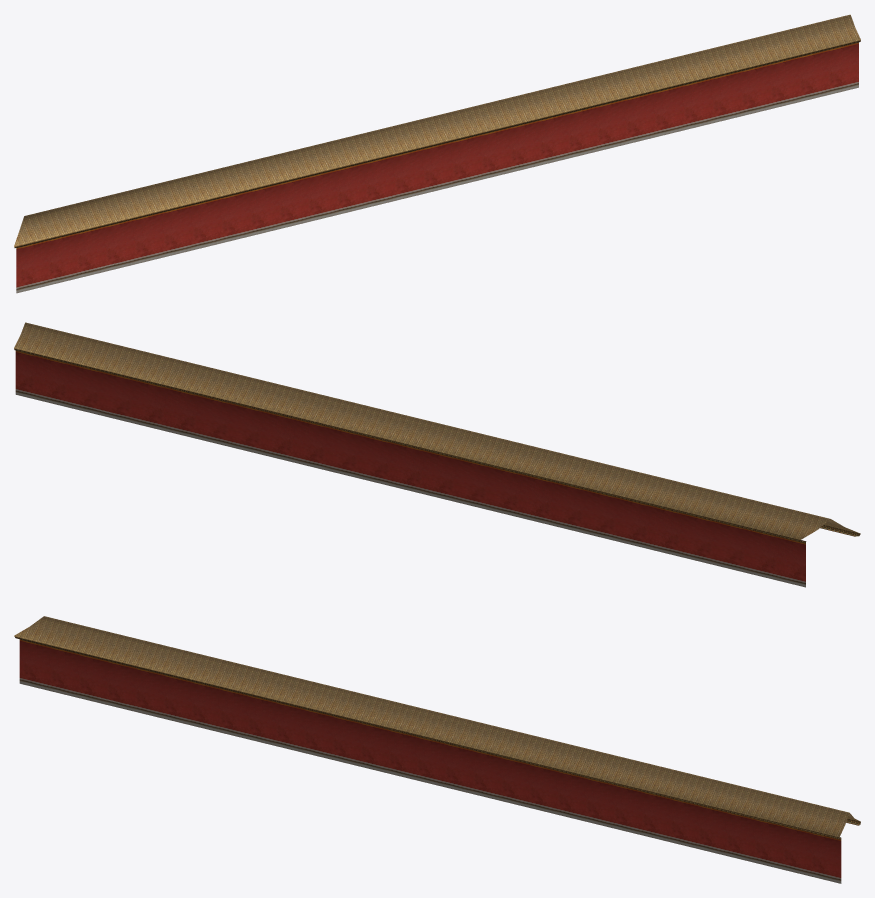
File: cj_pal_dam_left02.glb
The picture shows the model from 3 angles, top to bottom: view 1: azimuth 30°, elevation 25°; view 2: azimuth 150°, elevation 25°; view 3: azimuth 330°, elevation 25°; orthographic projection. The views are drawn at different scales.
Visible parts, largest first — view 1: CJ_pal_dam_left02_wall, CJ_pal_dam_left02_roof; view 2: CJ_pal_dam_left02_wall, CJ_pal_dam_left02_roof; view 3: CJ_pal_dam_left02_wall, CJ_pal_dam_left02_roof.
Part boxes in pixels (x1,y1,x2,y2): CJ_pal_dam_left02_wall: [16, 42, 858, 293]; CJ_pal_dam_left02_roof: [14, 14, 860, 247]; CJ_pal_dam_left02_wall: [15, 350, 805, 587]; CJ_pal_dam_left02_roof: [14, 322, 860, 542]; CJ_pal_dam_left02_wall: [19, 639, 841, 883]; CJ_pal_dam_left02_roof: [14, 616, 860, 839].
Size of the model in its own units: 82.62 by 6.26 by 3.71.
Materials: 2 (2 with a texture image).
